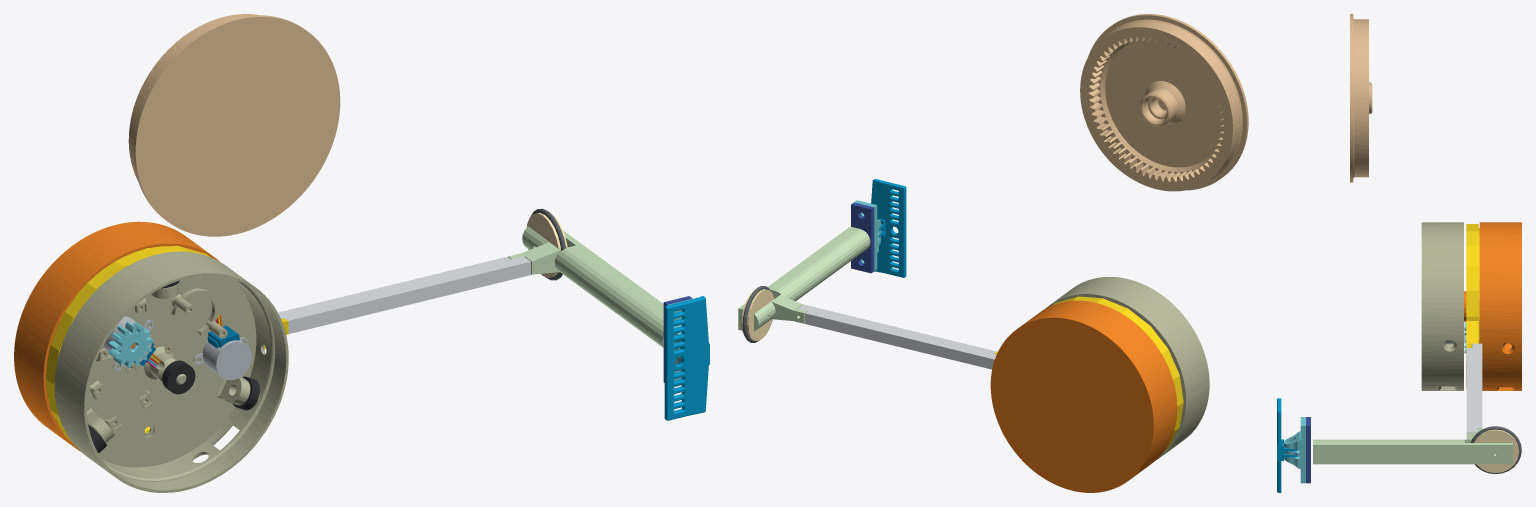
File: tinker.obj
3 views of the same model, side by side, from view 1: azimuth 30°, elevation 25°; view 2: azimuth 150°, elevation 25°; view 3: azimuth 270°, elevation 25° (orthographic). The views are drawn at different scales.
Parts seen in each view (by area): view 1: group_0_11909273, group_0_14860437, group_0_16089887, group_0_14541540, group_0_13165757, group_0_40919, group_0_16768282, group_0_12568524, group_0_7720667, group_0_2829873, group_0_16311991; view 2: group_0_16089887, group_0_14860437, group_0_11909273, group_0_13165757, group_0_14541540, group_0_40919, group_0_16768282, group_0_3888547, group_0_16311991; view 3: group_0_11909273, group_0_16089887, group_0_13165757, group_0_14860437, group_0_16768282, group_0_14541540, group_0_16311991, group_0_7720667, group_0_40919, group_0_6383466, group_0_3888547.
Part boxes in pixels (x1,y1,x2,y2): group_0_11909273: (54, 251, 288, 492); group_0_14860437: (128, 14, 340, 236); group_0_16089887: (14, 221, 222, 451); group_0_14541540: (278, 256, 530, 333); group_0_13165757: (508, 226, 663, 347); group_0_40919: (148, 296, 709, 420); group_0_16768282: (45, 245, 288, 440); group_0_12568524: (103, 316, 251, 380); group_0_7720667: (108, 298, 692, 386); group_0_2829873: (55, 280, 260, 452); group_0_16311991: (526, 213, 567, 277); group_0_16089887: (990, 300, 1177, 492); group_0_14860437: (1080, 14, 1248, 191); group_0_11909273: (1045, 277, 1209, 459); group_0_13165757: (738, 226, 870, 331); group_0_14541540: (798, 304, 996, 369); group_0_40919: (871, 179, 906, 277); group_0_16768282: (994, 296, 1183, 450); group_0_3888547: (851, 202, 874, 273); group_0_16311991: (741, 289, 774, 340); group_0_11909273: (1421, 222, 1463, 390); group_0_16089887: (1464, 222, 1521, 390); group_0_13165757: (1313, 428, 1512, 464); group_0_14860437: (1350, 14, 1372, 182); group_0_16768282: (1466, 224, 1479, 388); group_0_14541540: (1466, 343, 1482, 432); group_0_16311991: (1474, 429, 1519, 473); group_0_7720667: (1283, 417, 1305, 483); group_0_40919: (1277, 398, 1298, 492); group_0_6383466: (1470, 426, 1521, 473); group_0_3888547: (1306, 417, 1310, 483).
Bounding box in the file's own units: 412 × 379 × 232.
